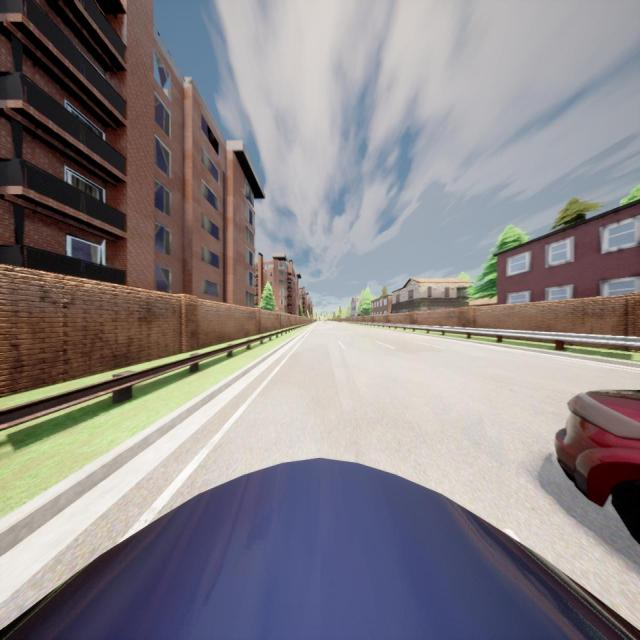Vehicle: (0, 455, 640, 639), (555, 390, 639, 543)
